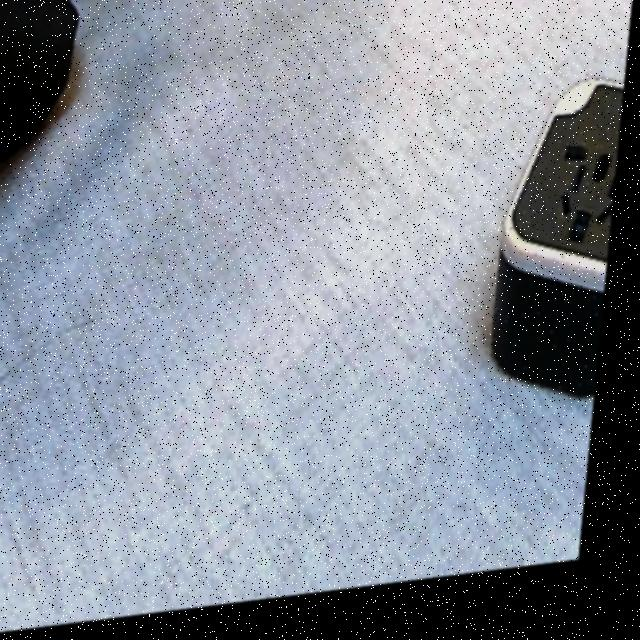adapter: (490, 87, 629, 423)
